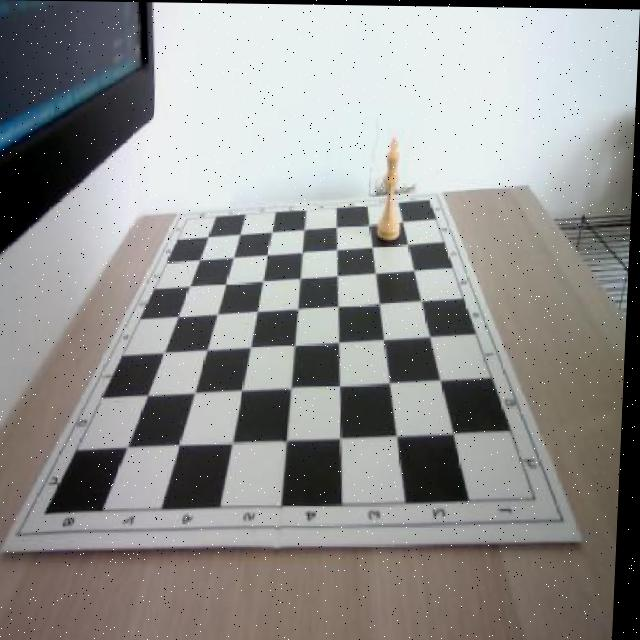white-bishop: (379, 135, 406, 239)
